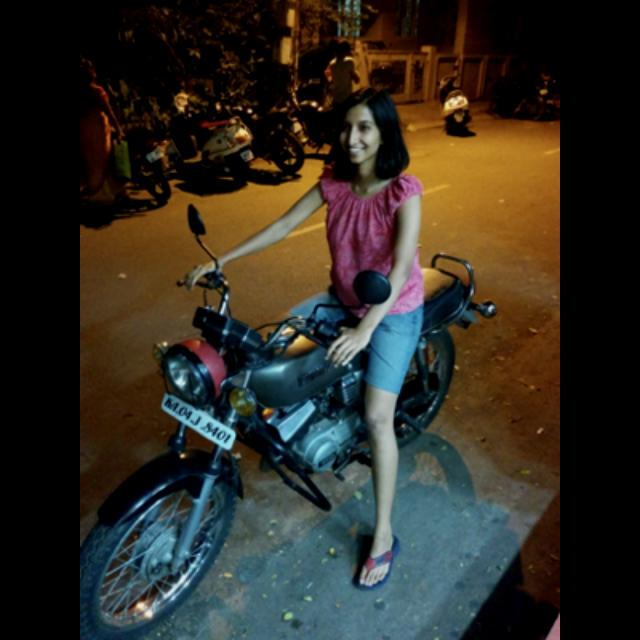Without Helmet: (328, 80, 404, 180)
